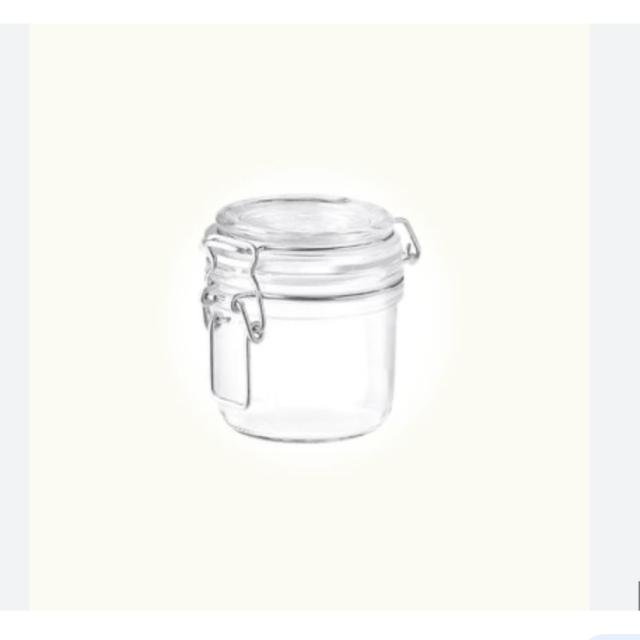recyclable: (186, 178, 424, 452)
